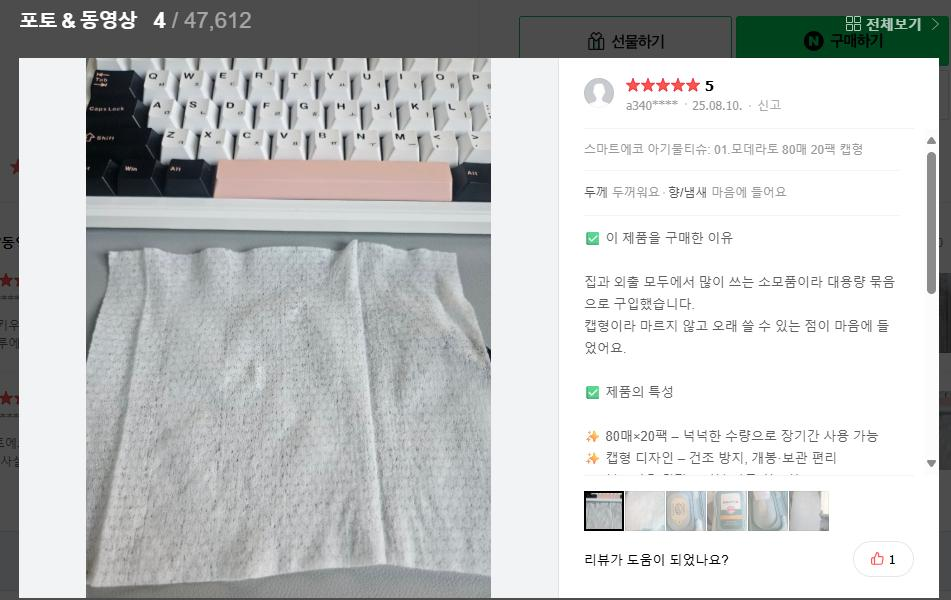button: (738, 15, 951, 64), (519, 16, 731, 58), (844, 540, 923, 581), (841, 7, 946, 34), (748, 490, 788, 531), (584, 491, 623, 531), (667, 491, 706, 531), (790, 491, 829, 531), (626, 491, 664, 532), (708, 491, 745, 530)
